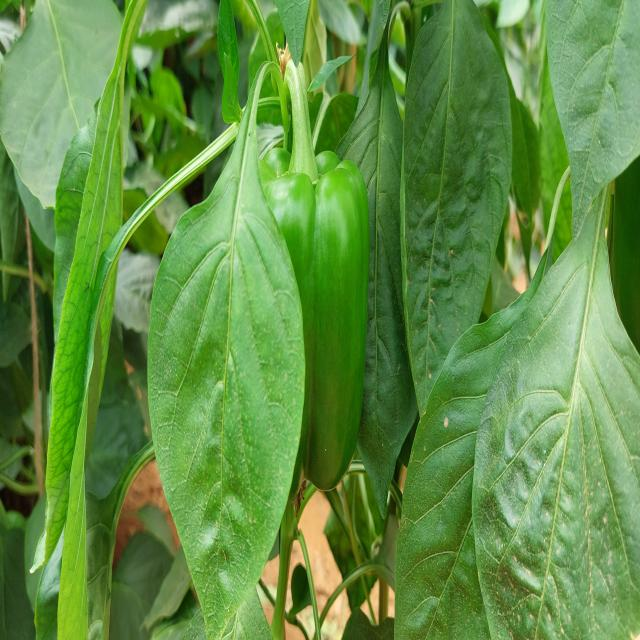Green--Not-ready-to-harvest: (255, 146, 362, 508)
